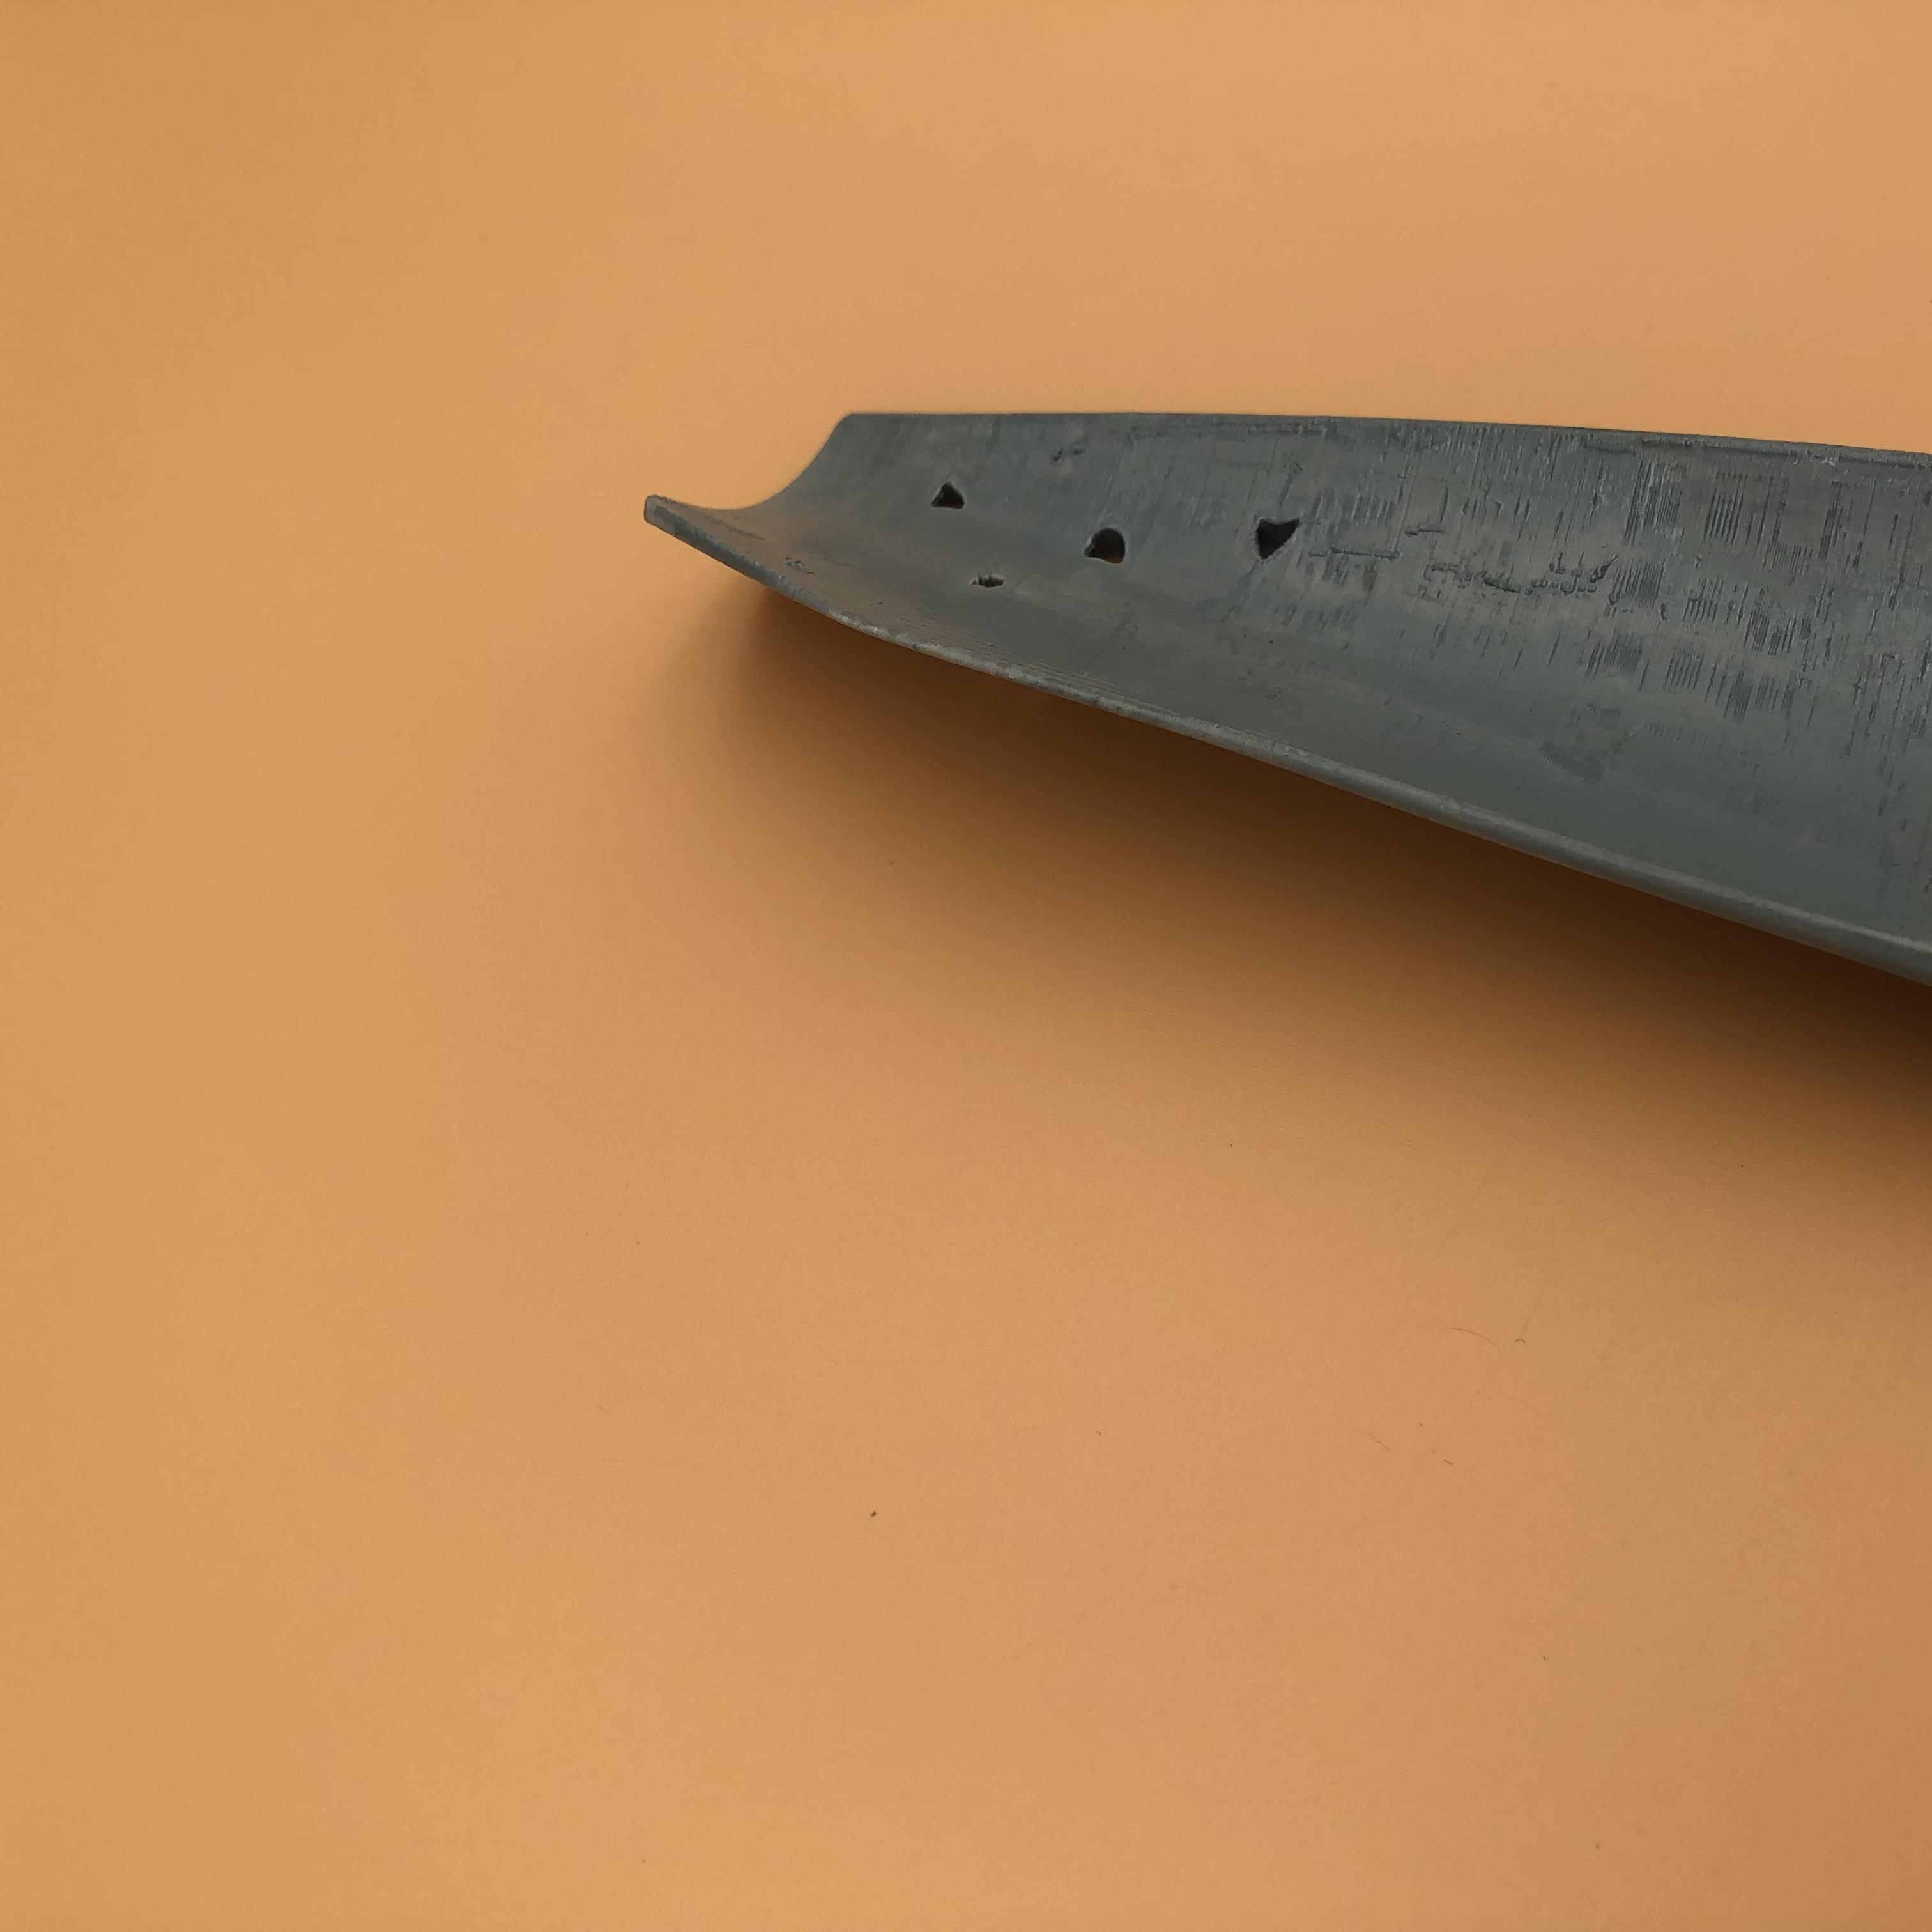breakdown: (927, 481, 1320, 598)
